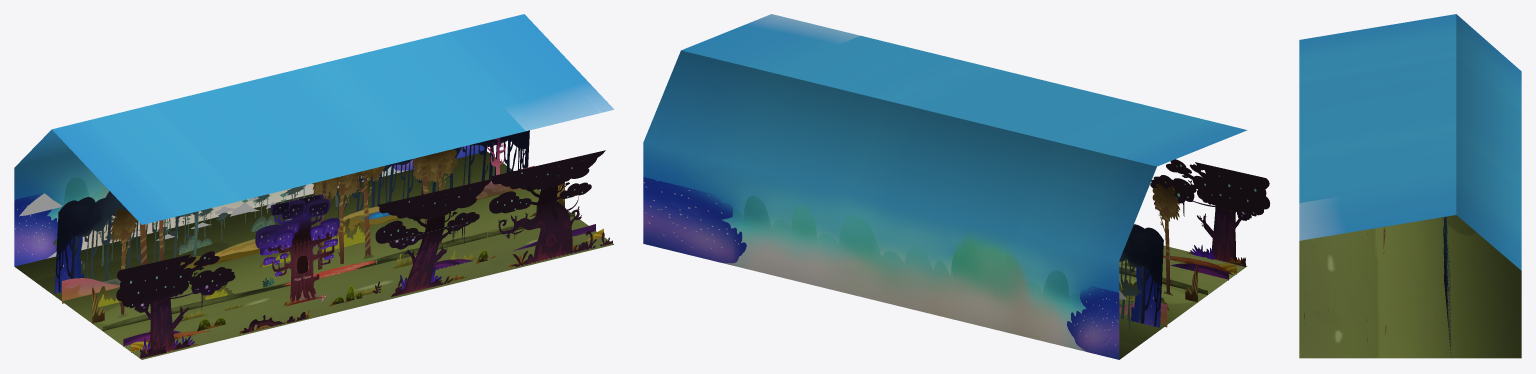
Rendered from STCS_senlin_changjing_ani.fbx.
3 renders of one model, left to right at view 1: azimuth 30°, elevation 25°; view 2: azimuth 150°, elevation 25°; view 3: azimuth 270°, elevation 25°, orthographic. The views are drawn at different scales.
Visible parts, largest first — view 1: STCS_senlin_BG_MD1:tutu_MD89, STCS_senlin_BG_MD1:tutu_MD157, tutu_MD86, tutu_MD85, tutu_MD84, tutu_MD83, STCS_senlin_BG_MD1:tutu_MD38, STCS_senlin_BG_MD1:tutu_MD83, STCS_senlin_BG_MD1:tutu_MD37, STCS_senlin_BG_MD1:tutu_MD2, STCS_senlin_BG_MD1:tutu_MD3, STCS_senlin_BG_MD1:tutu_MD73 (+6 smaller); view 2: STCS_senlin_BG_MD1:tutu_MD89, tutu_MD86, STCS_senlin_BG_MD1:tutu_MD157, STCS_senlin_BG_MD1:tutu_MD2, tutu_MD87; view 3: STCS_senlin_BG_MD1:tutu_MD89, STCS_senlin_BG_MD1:tutu_MD83.
Part boxes in pixels (<box>): STCS_senlin_BG_MD1:tutu_MD89: <box>14,14,613,359</box>; STCS_senlin_BG_MD1:tutu_MD157: <box>54,191,198,293</box>; tutu_MD86: <box>116,251,235,308</box>; tutu_MD85: <box>489,150,605,213</box>; tutu_MD84: <box>375,179,492,243</box>; tutu_MD83: <box>255,194,340,253</box>; STCS_senlin_BG_MD1:tutu_MD38: <box>498,196,596,266</box>; STCS_senlin_BG_MD1:tutu_MD83: <box>336,130,529,218</box>; STCS_senlin_BG_MD1:tutu_MD37: <box>383,220,473,296</box>; STCS_senlin_BG_MD1:tutu_MD2: <box>134,281,229,355</box>; STCS_senlin_BG_MD1:tutu_MD3: <box>102,232,487,330</box>; STCS_senlin_BG_MD1:tutu_MD73: <box>272,237,334,303</box>; STCS_senlin_BG_MD1:tutu_MD89: <box>643,14,1247,359</box>; tutu_MD86: <box>1150,159,1270,216</box>; STCS_senlin_BG_MD1:tutu_MD157: <box>1119,224,1163,327</box>; STCS_senlin_BG_MD1:tutu_MD2: <box>1176,197,1251,266</box>; tutu_MD87: <box>1152,184,1180,221</box>; STCS_senlin_BG_MD1:tutu_MD89: <box>1299,14,1521,358</box>; STCS_senlin_BG_MD1:tutu_MD83: <box>1443,216,1451,356</box>.
Size of the model in its own units: 25.27 by 8.46 by 11.22.
